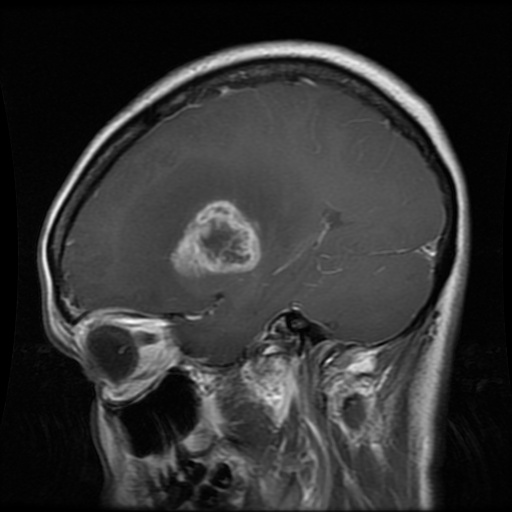glioma: (170, 199, 263, 275)
